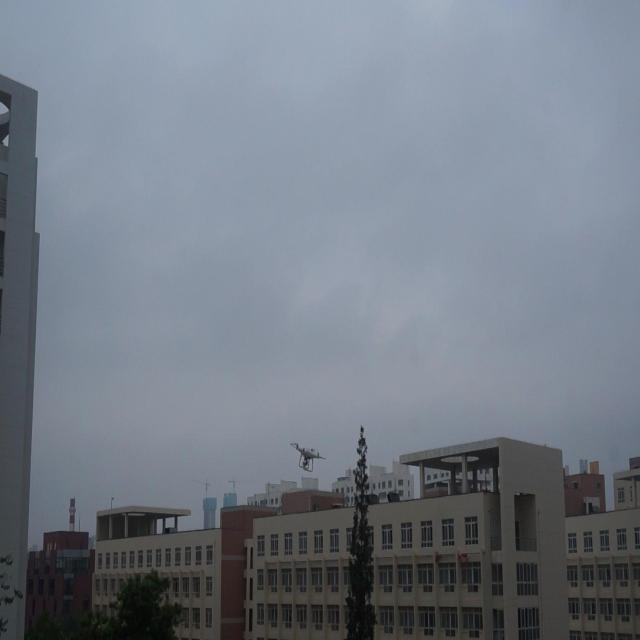drone: (290, 438, 324, 474)
